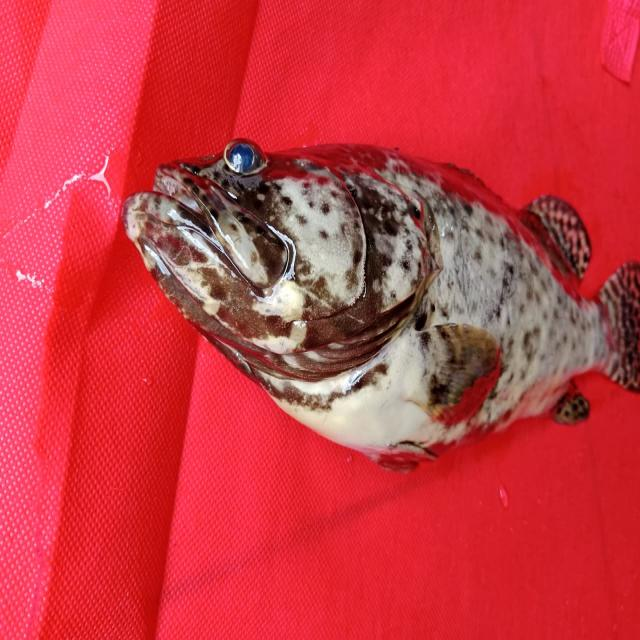ikan: (114, 116, 631, 476)
